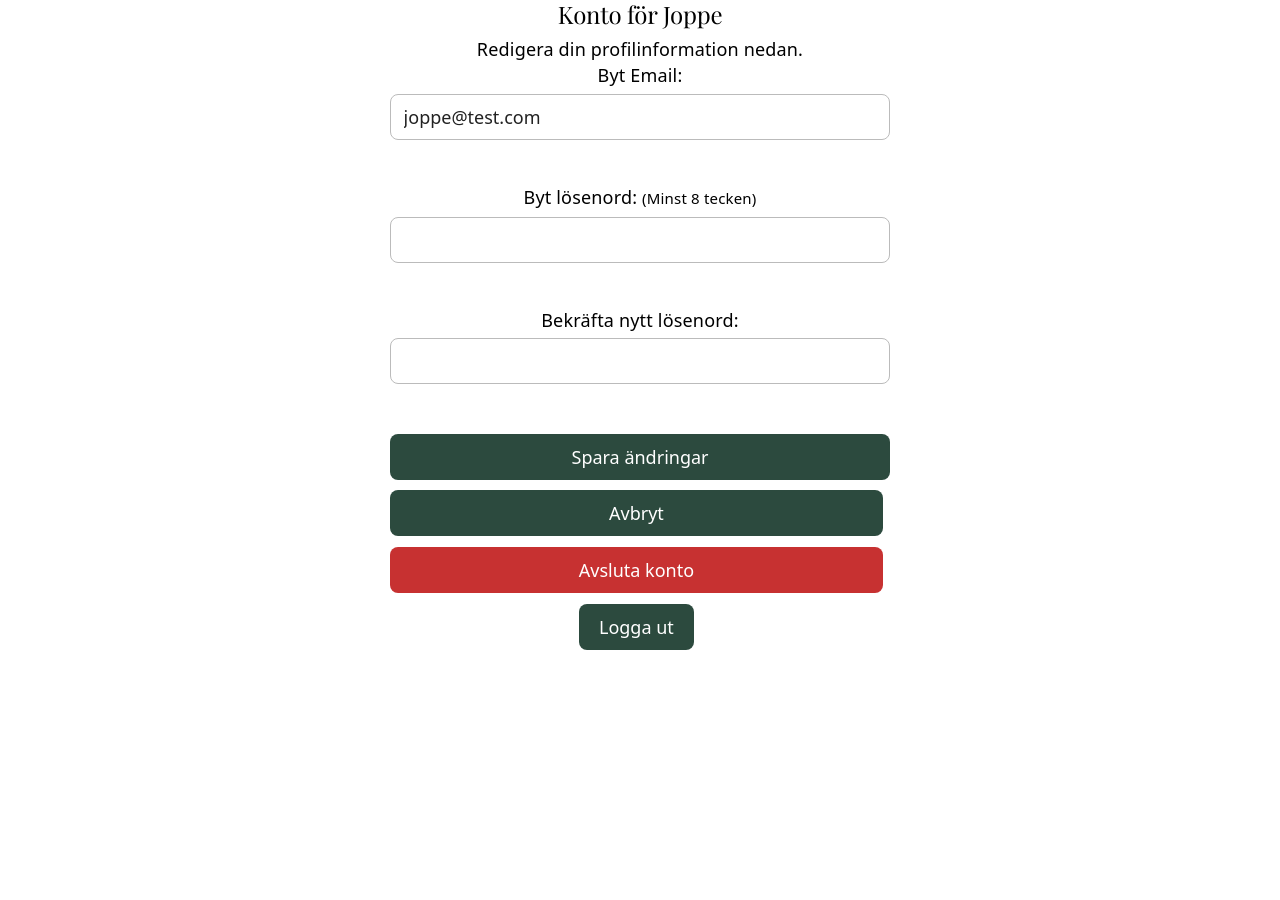
Scenario: Profile › visar dialogruta för att avsluta konto
Click the button "Avsluta konto" at {"x": 636, "y": 570}, box [390,547,883,593]
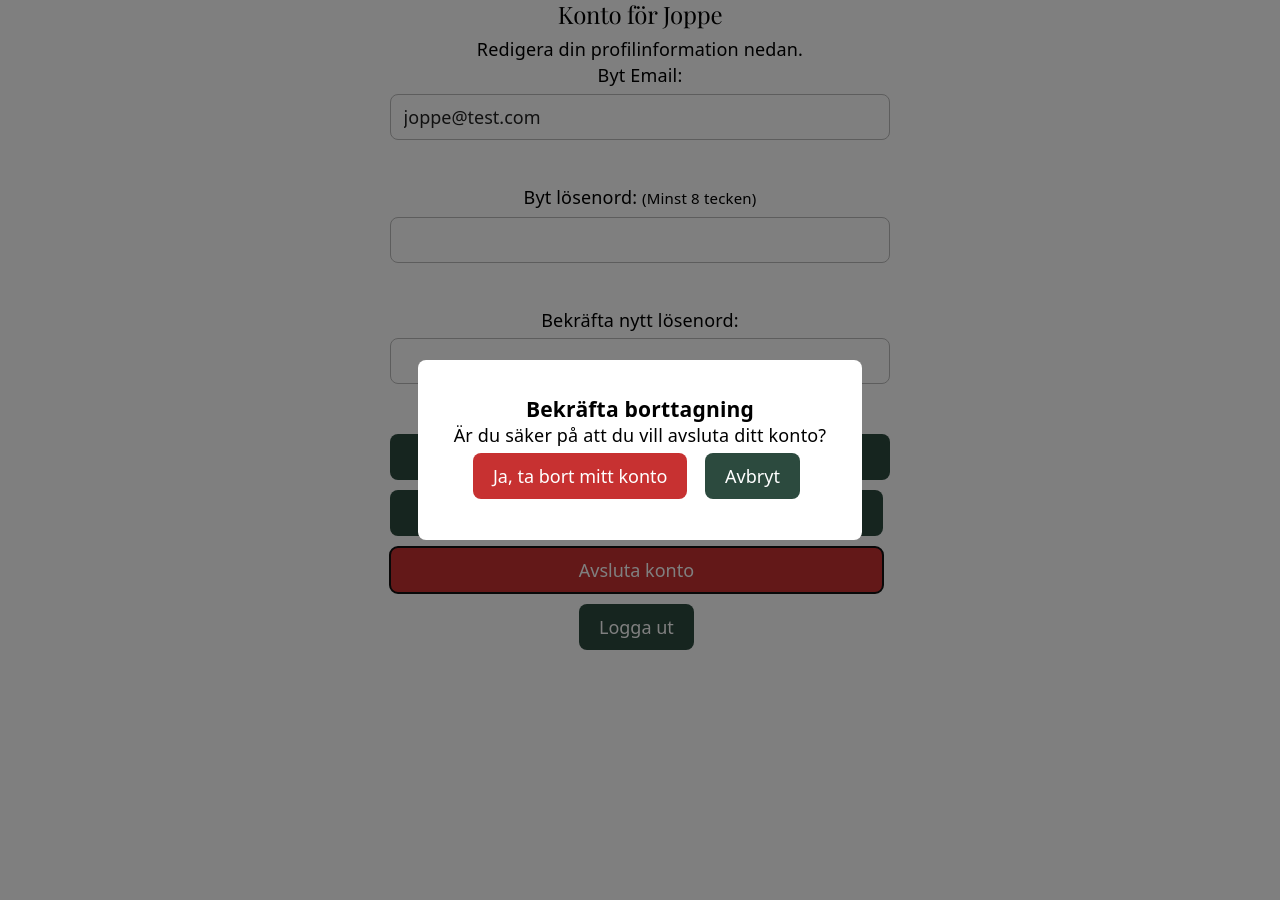
Now the heading "Bekräfta borttagning" is shown, box [526,394,754,423]
